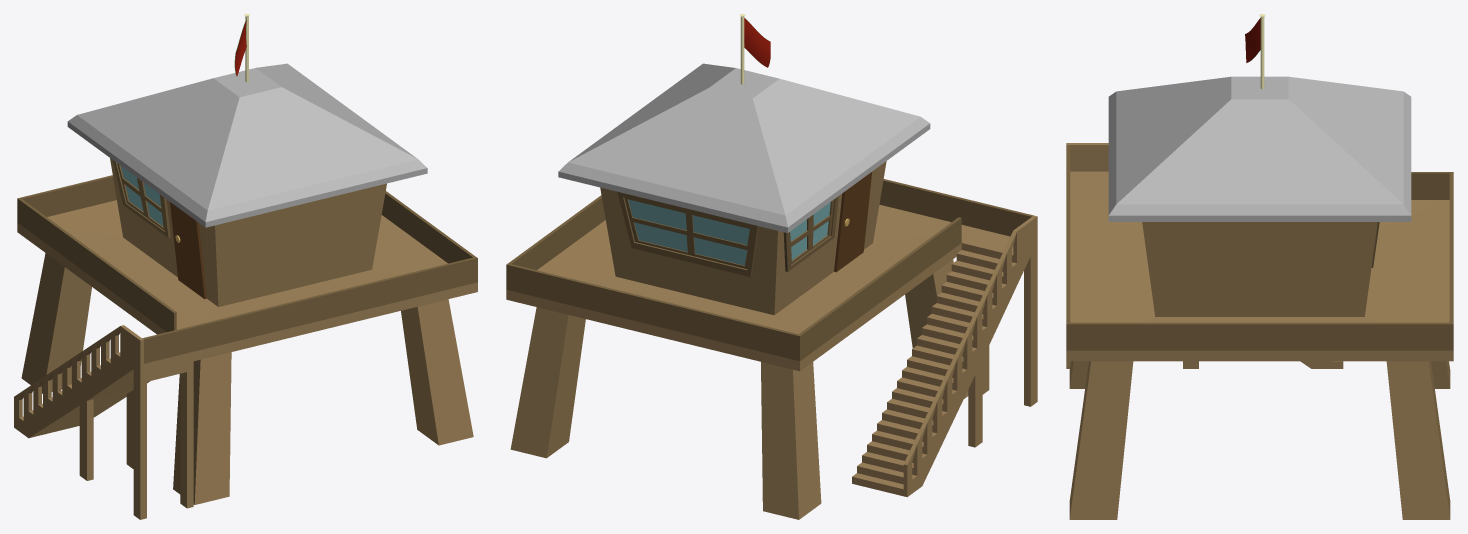
The model's file is ВышкаОхраны.fbx.
3 renders of one model, left to right at view 1: azimuth 30°, elevation 25°; view 2: azimuth 150°, elevation 25°; view 3: azimuth 270°, elevation 25°, orthographic. The views are drawn at different scales.
Parts seen in each view (by area): view 1: Вышка; view 2: Вышка; view 3: Вышка.
Part boxes in pixels (x1,y1,x2,y2): Вышка: [14, 14, 477, 519]; Вышка: [506, 14, 1037, 519]; Вышка: [1066, 14, 1453, 519].
Bounding box in the file's own units: 1739 × 1927 × 1573.
